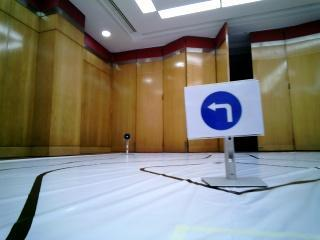left: (188, 86, 256, 135)
